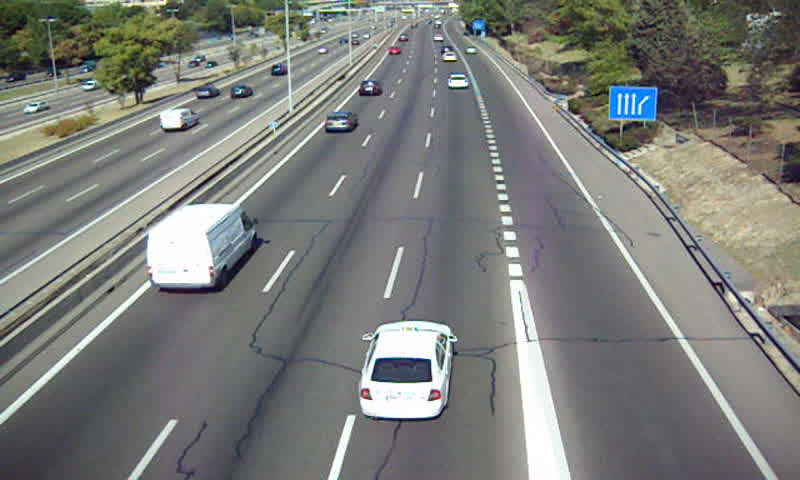car: (360, 320, 453, 418), (324, 112, 358, 133), (358, 79, 381, 98), (446, 74, 470, 90)
van: (146, 204, 255, 290)
